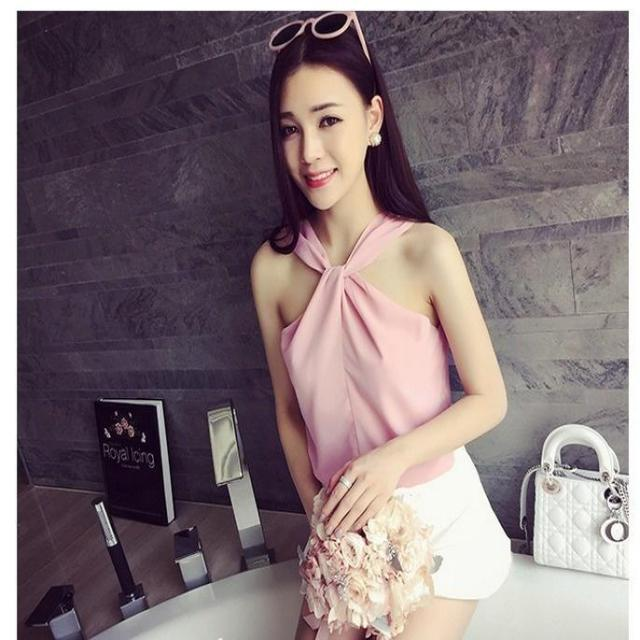sling: (281, 209, 455, 491)
